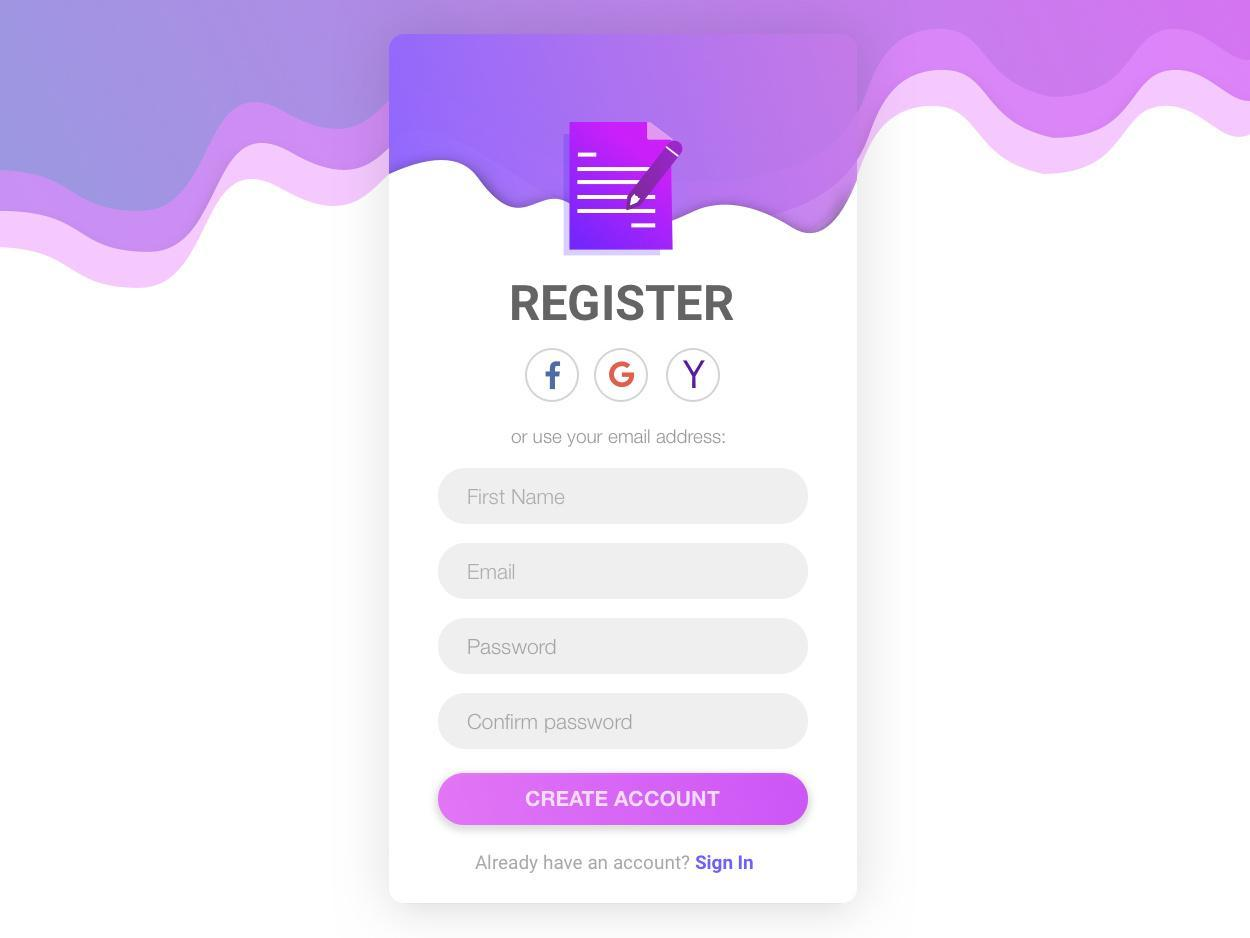button: (439, 773, 810, 829), (590, 347, 656, 406), (668, 347, 727, 406), (528, 346, 584, 406)
input: (439, 689, 812, 757), (439, 615, 813, 682), (439, 465, 807, 532), (440, 545, 813, 605)
label: (501, 429, 735, 454)
